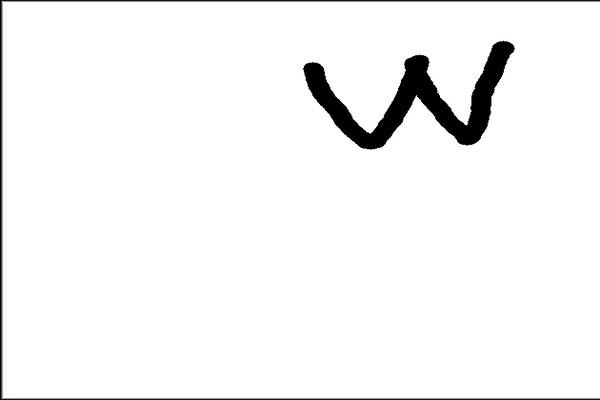w: (284, 27, 537, 170)
